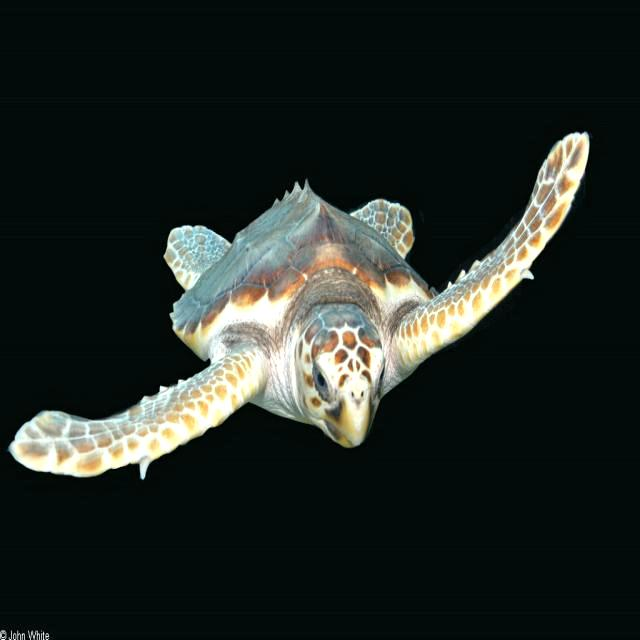Sea turtle: (8, 121, 598, 488)
